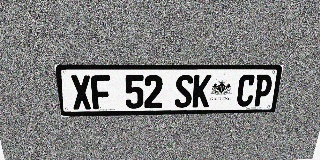2: (144, 75, 163, 108)
5: (125, 75, 144, 109)
C: (236, 75, 256, 107)
F: (90, 75, 111, 109)
K: (192, 75, 212, 107)
P: (252, 74, 273, 106)
S: (174, 75, 194, 108)
X: (70, 75, 92, 110)
